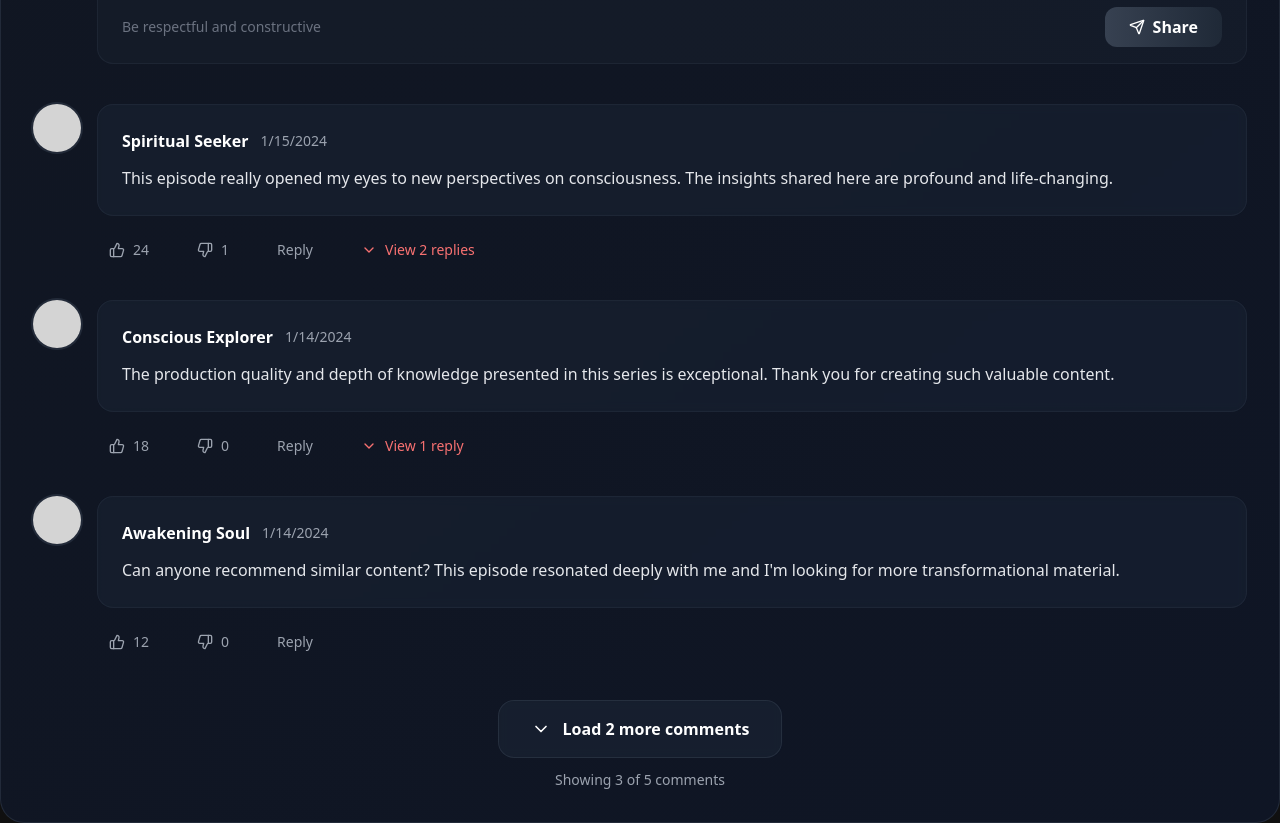
Test: CommentSection › renders initial counts and loads more
(page scrolled)
Expected: the text "Showing 3 of 5 comments" is shown, x1=555 y1=770 x2=725 y2=789
Click the button "Load 2 more comments".
click(640, 729)  # box x1=498 y1=700 x2=782 y2=758
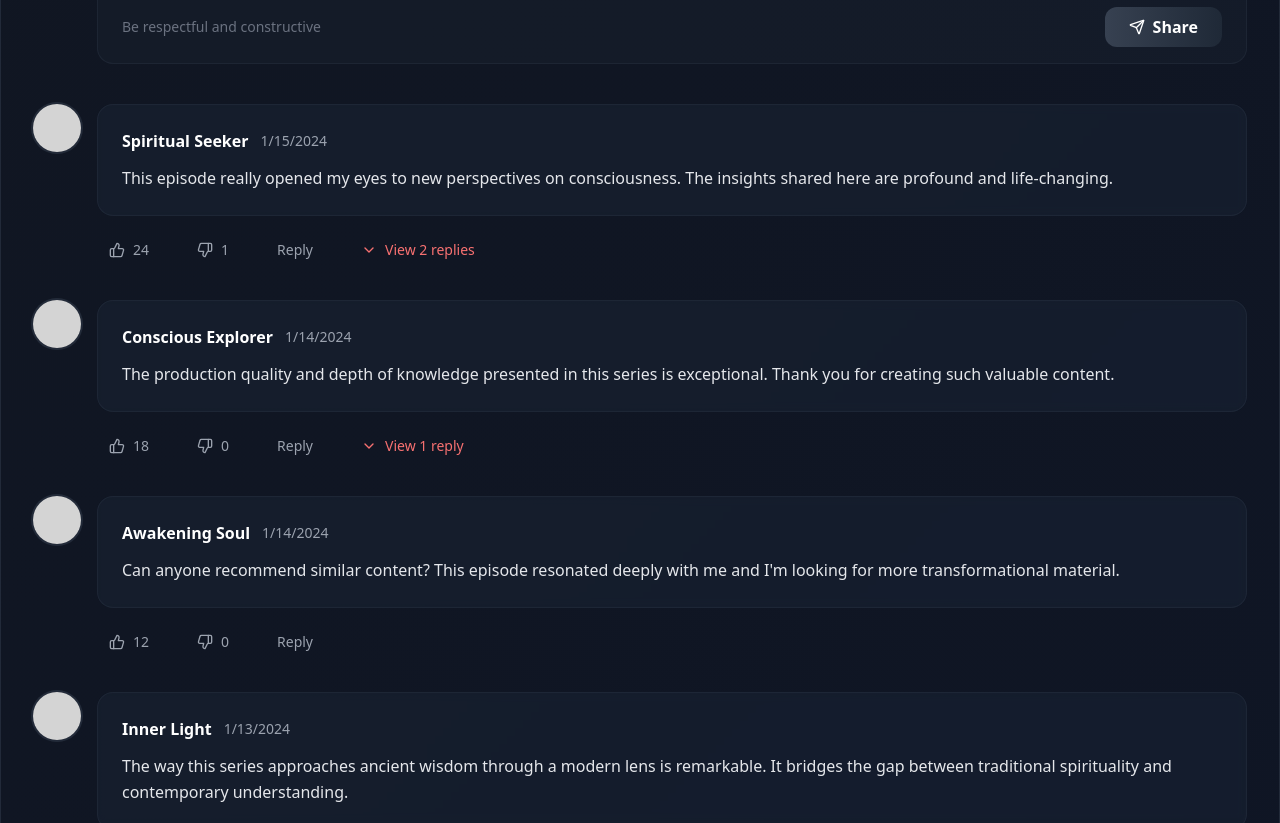
Expected: the button "Load" is gone
